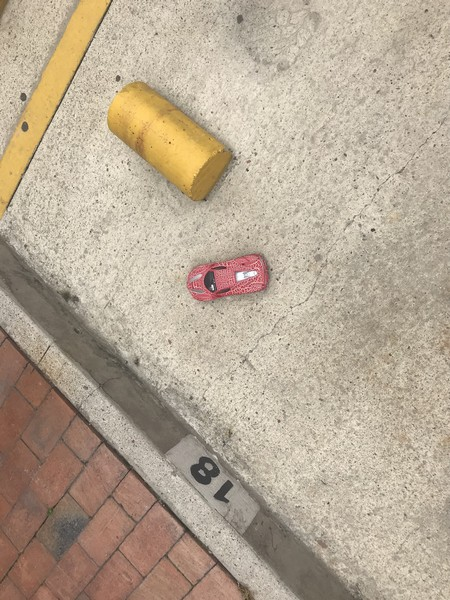RC: (187, 252, 272, 302)
